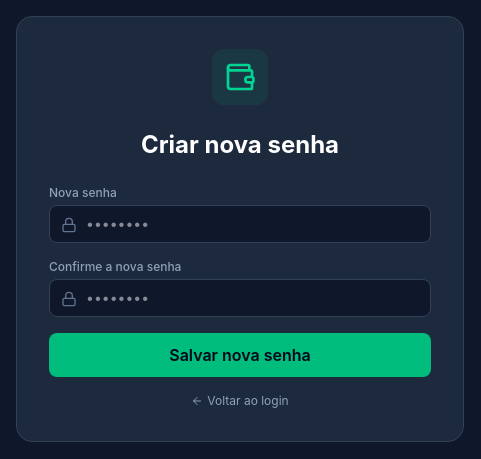
Scenario: Recuperação de senha › confirma a troca e avisa que as sessões foram encerradas
Type "senha-nova-123" into the password field labelled "Nova senha" at (240, 224), box top-left (49, 205), bottom-right (431, 243)
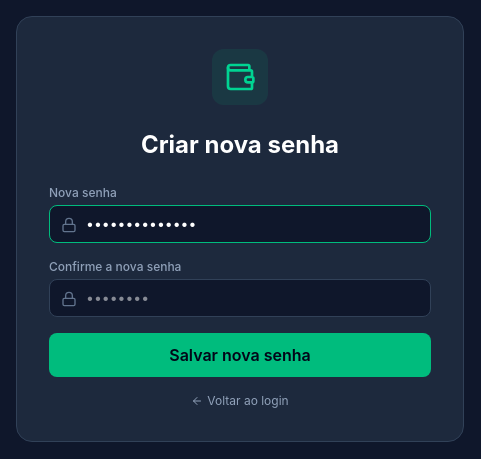
Type "senha-nova-123" into the password field labelled "Confirme a nova senha" at (240, 298), box top-left (49, 279), bottom-right (431, 317)
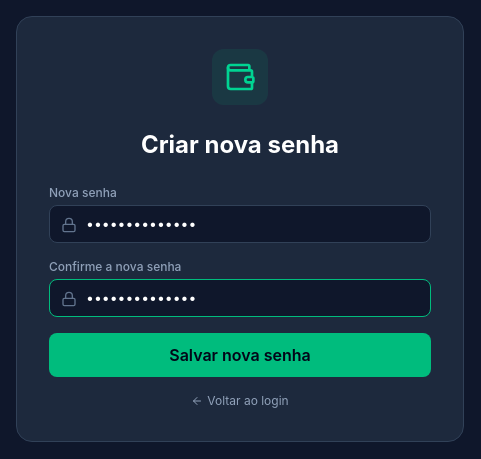
Click the button "Salvar nova senha" at (240, 355), box top-left (49, 333), bottom-right (431, 377)
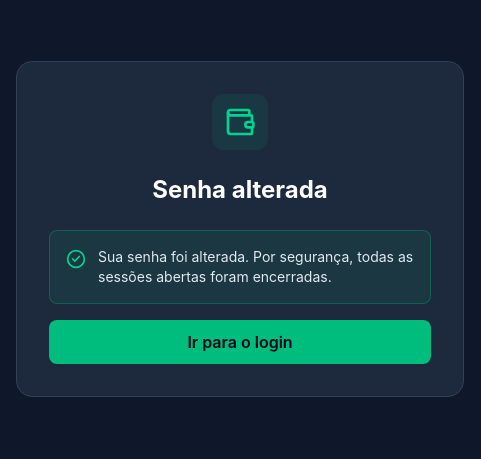
Expected: the element with test id "reset-done" shows "sessões abertas foram encerradas", top-left (98, 248), bottom-right (413, 285)
